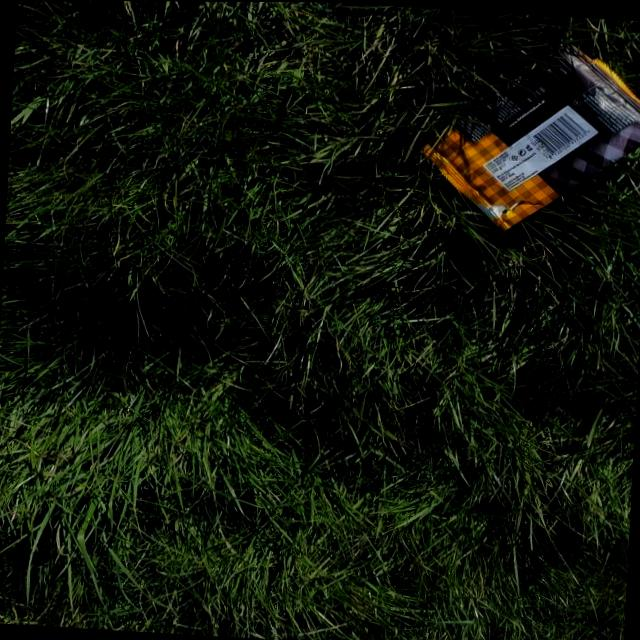Plastic: (410, 29, 640, 241)
